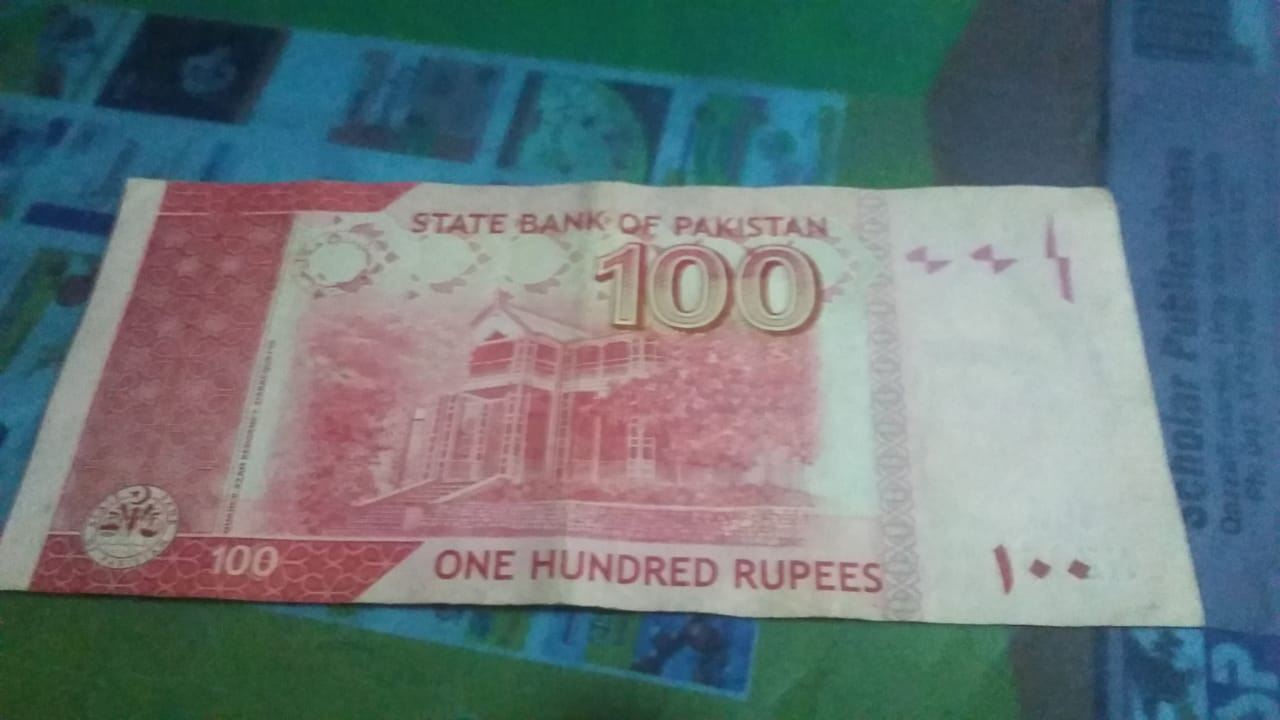100 rupee: (9, 169, 1208, 628)
